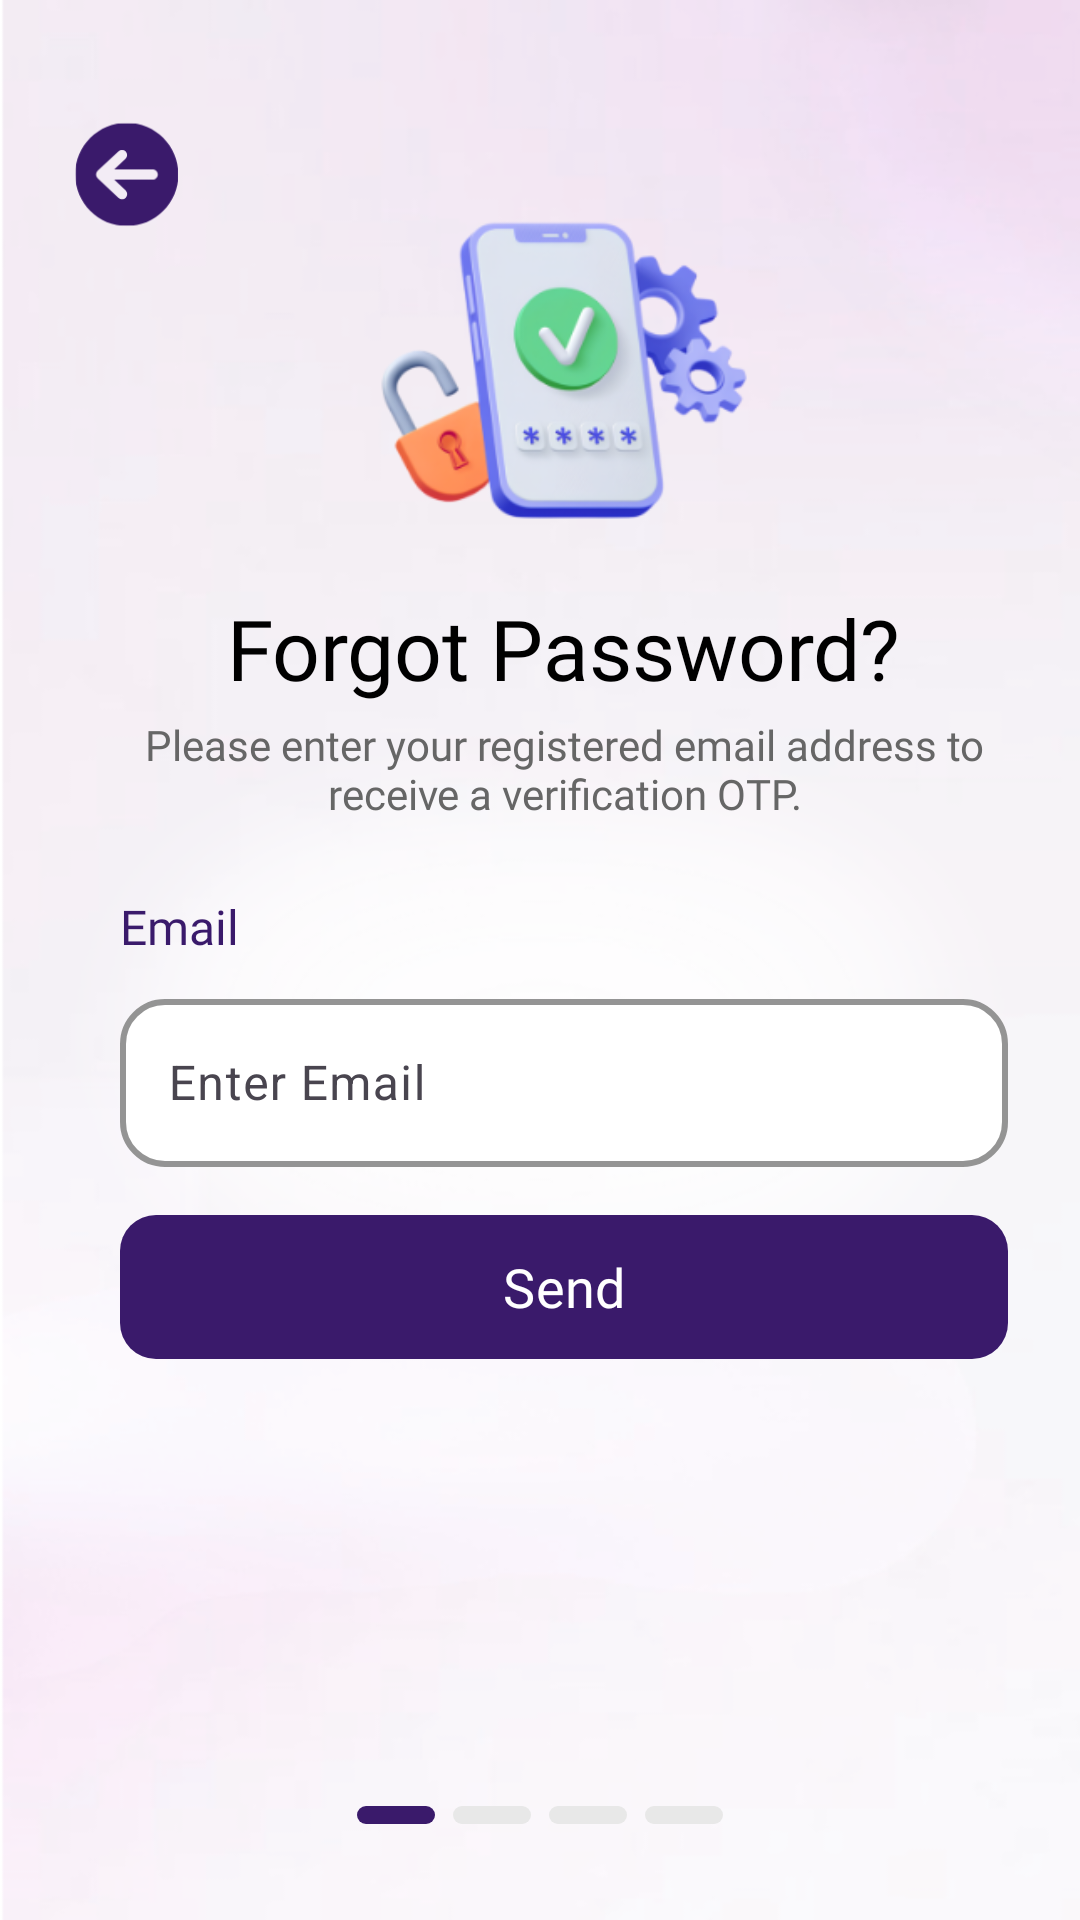

Named icons in this screenshot (1080w x 1920h) and their bounding boxes, (x1, y1, x2, y2):
back: (75, 123, 178, 226)
